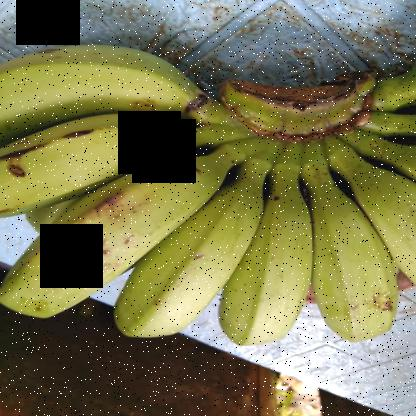freshunripe: (108, 167, 270, 343), (1, 33, 195, 138), (219, 174, 322, 352), (349, 163, 415, 291)
unripe: (1, 152, 228, 332), (1, 115, 197, 225), (294, 170, 400, 350)
